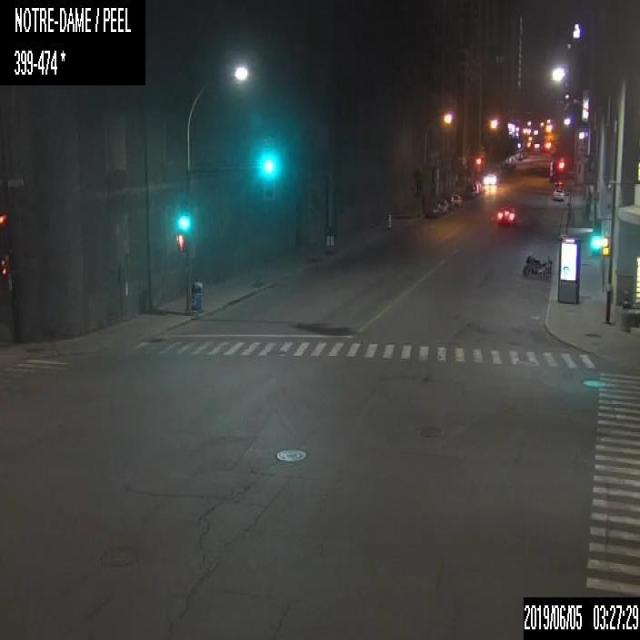vehicle: (522, 253, 553, 276), (494, 201, 516, 223), (551, 180, 566, 199), (464, 182, 478, 200), (436, 198, 448, 213), (450, 193, 462, 207), (428, 203, 440, 216), (484, 172, 496, 184)
